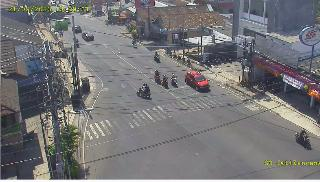mobil: (185, 69, 211, 95)
motor: (297, 128, 313, 150), (136, 83, 154, 101), (168, 72, 180, 90), (160, 74, 170, 92), (153, 71, 163, 85), (153, 52, 163, 62)
